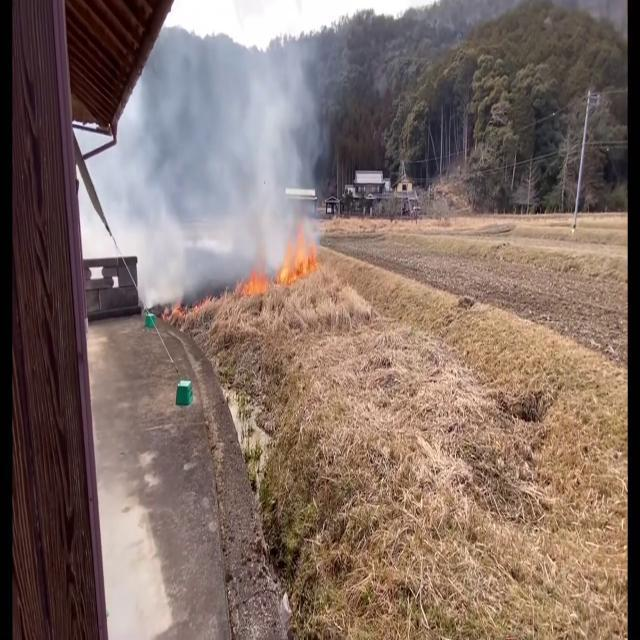Fire: (278, 224, 318, 288)
Smoke: (107, 4, 326, 306)
